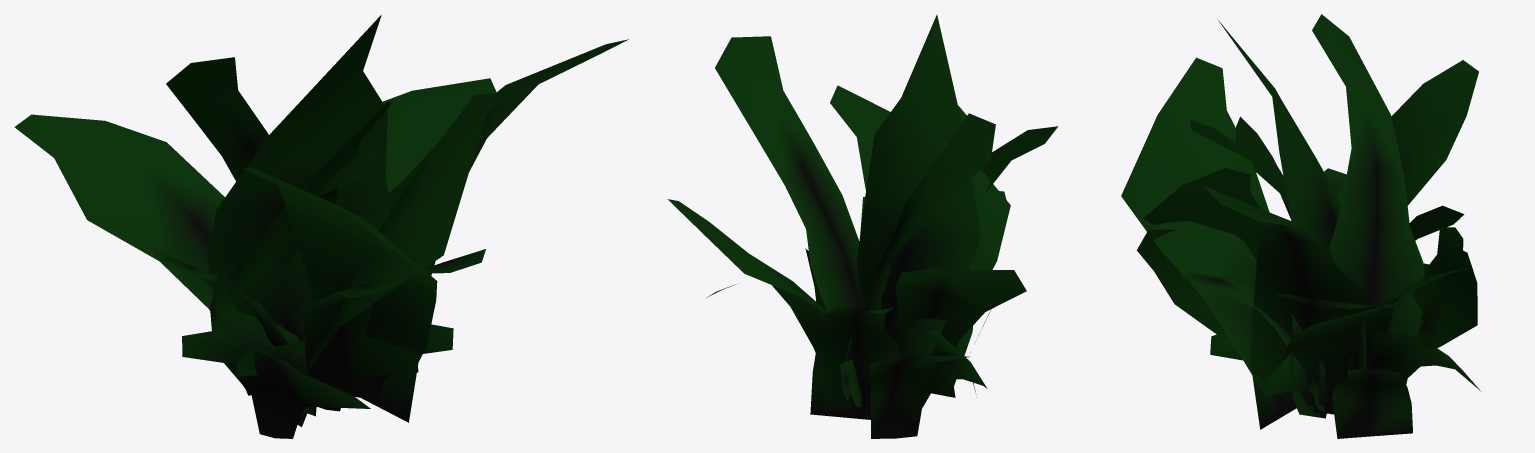
Rendered from GrassTallDryGCATA_F.fbx.
3 renders of one model, left to right at view 1: azimuth 30°, elevation 25°; view 2: azimuth 150°, elevation 25°; view 3: azimuth 270°, elevation 25°, orthographic. The views are drawn at different scales.
Visible parts, largest first — view 1: GTDF_LOD0; view 2: GTDF_LOD0; view 3: GTDF_LOD0.
Boxes of the visible parts, bbox=[...] form: GTDF_LOD0: bbox=[14, 15, 628, 438]; GTDF_LOD0: bbox=[667, 15, 1057, 438]; GTDF_LOD0: bbox=[1121, 14, 1481, 438].
Size of what is drawn, in the model's own units: 2.3 by 2.07 by 1.87.
